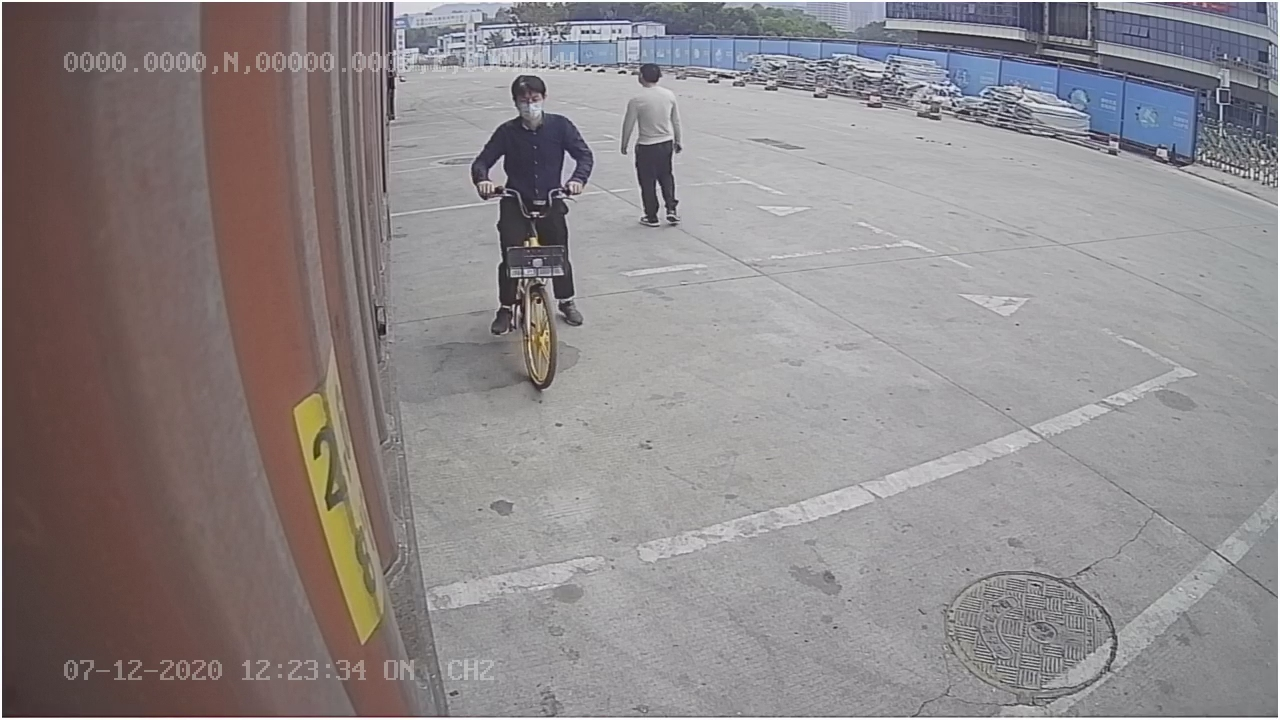person: (618, 58, 688, 230)
